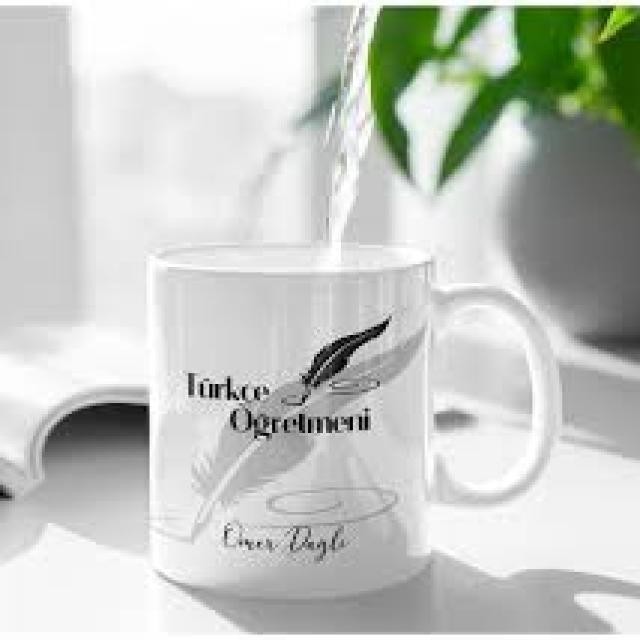taza: (145, 240, 562, 594)
